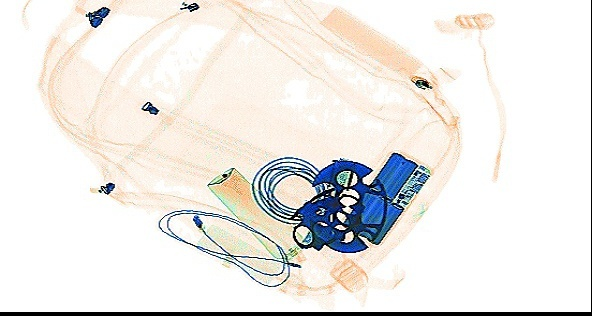powerbank: (338, 149, 432, 246)
pressure: (207, 166, 306, 265)
